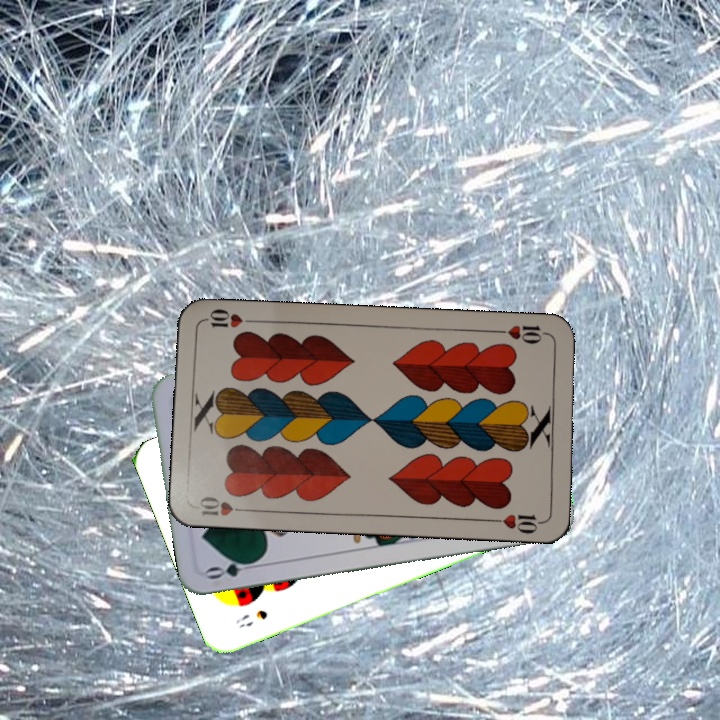GO: (203, 555, 262, 582)
H10: (196, 492, 253, 519), (492, 321, 551, 347)
S8: (231, 605, 270, 630)
